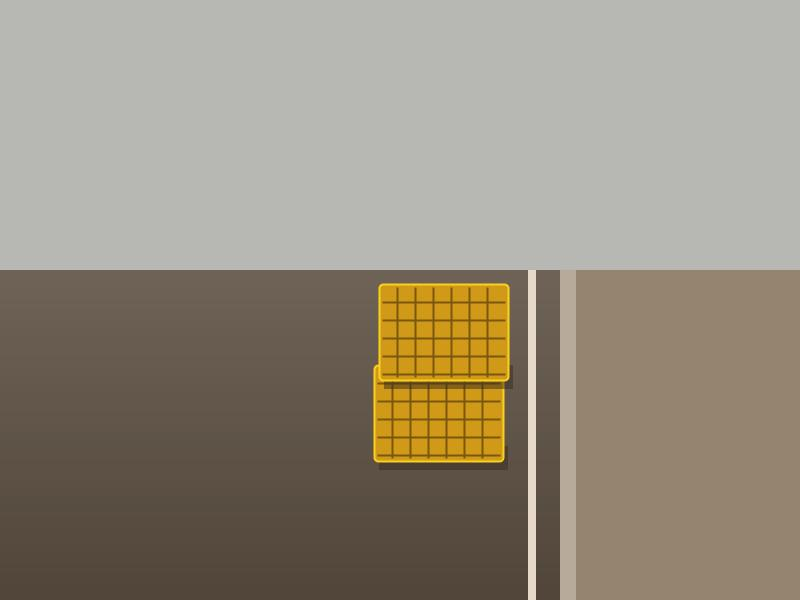ROAD_OBSTACLE: (374, 284, 503, 461)
